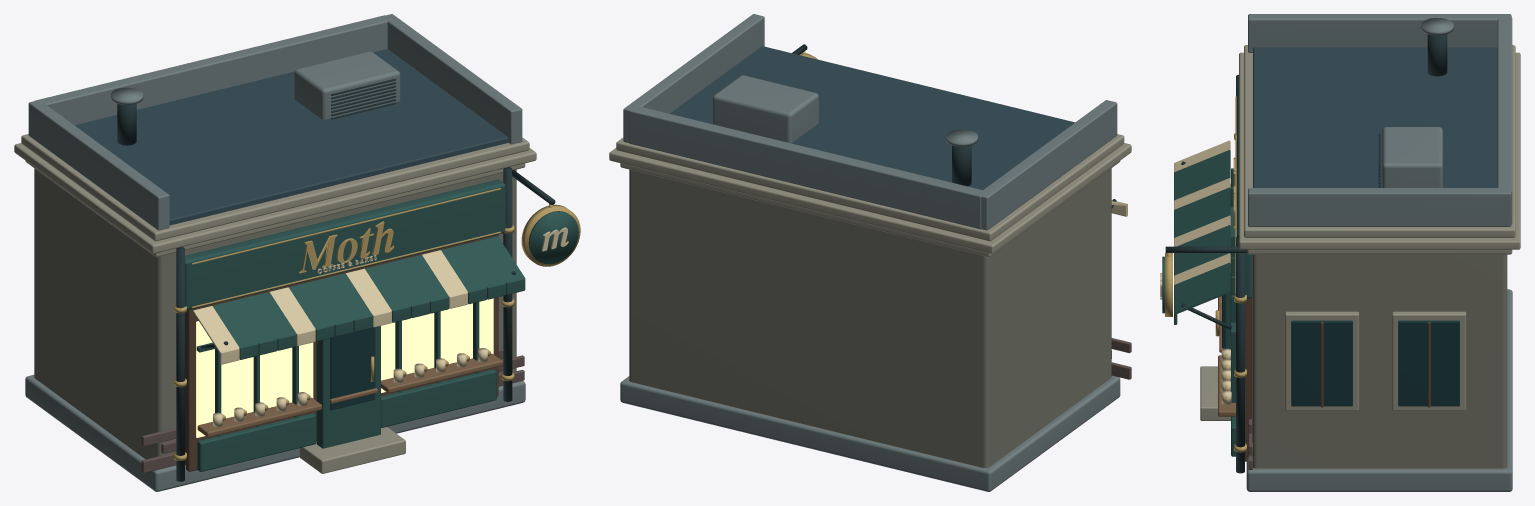
Rendered from cafe_refined.glb.
3 views of the same model, side by side, from view 1: azimuth 30°, elevation 25°; view 2: azimuth 150°, elevation 25°; view 3: azimuth 270°, elevation 25° (orthographic).
Visible parts, largest first — view 1: Roof inset, Cafe plaster shell, Deep green sign fascia, Rear parapet, Stepped cornice.001, Stepped cornice.002, Stone plinth, Roof parapet, Warm display backing, Roof parapet.001, Warm display backing.001, Rooftop air handling unit (+33 smaller); view 2: Cafe plaster shell, Roof inset, Rear parapet, Stone plinth, Stepped cornice.001, Roof parapet, Stepped cornice.002, Rooftop air handling unit, Roof parapet.001, Stepped cornice, Exhaust stack; view 3: Cafe plaster shell, Roof inset, Roof parapet.001, Roof parapet, Stone plinth, Stepped cornice.001, East window.001, East window, Stepped cornice.002, Rooftop air handling unit, Rear parapet, East window casing (+29 smaller).
Part boxes in pixels (bbox=[...]): Roof inset: bbox=[74, 49, 508, 225]; Cafe plaster shell: bbox=[34, 168, 516, 459]; Deep green sign fascia: bbox=[185, 179, 505, 310]; Rear parapet: bbox=[35, 15, 390, 124]; Stepped cornice.001: bbox=[14, 143, 536, 253]; Stepped cornice.002: bbox=[21, 134, 529, 241]; Stone plinth: bbox=[25, 375, 525, 491]; Roof parapet: bbox=[28, 101, 169, 230]; Warm display backing: bbox=[196, 321, 313, 437]; Roof parapet.001: bbox=[383, 14, 522, 144]; Warm display backing.001: bbox=[381, 298, 493, 392]; Rooftop air handling unit: bbox=[294, 51, 400, 119]; Cafe plaster shell: bbox=[629, 168, 1111, 468]; Roof inset: bbox=[670, 46, 1074, 189]; Rear parapet: bbox=[629, 106, 983, 229]; Stone plinth: bbox=[620, 375, 1120, 491]; Stepped cornice.001: bbox=[609, 143, 1131, 253]; Roof parapet: bbox=[978, 100, 1117, 230]; Stepped cornice.002: bbox=[616, 134, 1124, 241]; Rooftop air handling unit: bbox=[713, 75, 818, 143]; Roof parapet.001: bbox=[623, 14, 764, 142]; Stepped cornice: bbox=[620, 161, 1120, 257]; Exhaust stack: bbox=[952, 145, 971, 186]; Cafe plaster shell: bbox=[1252, 254, 1507, 468]; Roof inset: bbox=[1253, 47, 1497, 187]; Roof parapet.001: bbox=[1248, 188, 1511, 226]; Roof parapet: bbox=[1248, 14, 1511, 52]; Stone plinth: bbox=[1246, 289, 1512, 491]; Stepped cornice.001: bbox=[1239, 52, 1520, 249]; East window.001: bbox=[1291, 320, 1352, 406]; East window: bbox=[1398, 320, 1459, 406]; Stepped cornice.002: bbox=[1244, 45, 1515, 237]; Rooftop air handling unit: bbox=[1382, 127, 1443, 187]; Rear parapet: bbox=[1497, 17, 1512, 223]; East window casing: bbox=[1392, 311, 1466, 410].
Size of the model in its own units: 5.61 by 4.26 by 4.37.
